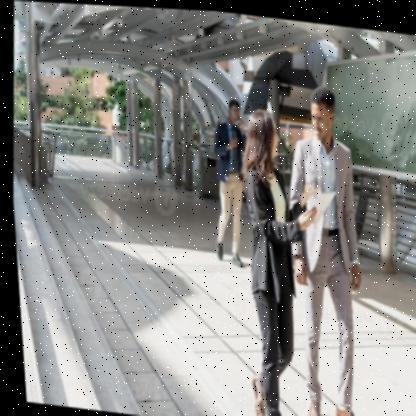person: (267, 79, 396, 416), (219, 103, 343, 416), (196, 91, 262, 277)
